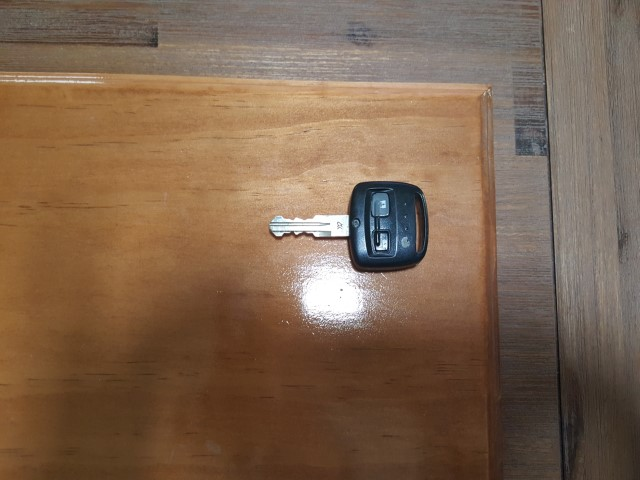key: (270, 179, 430, 430)
